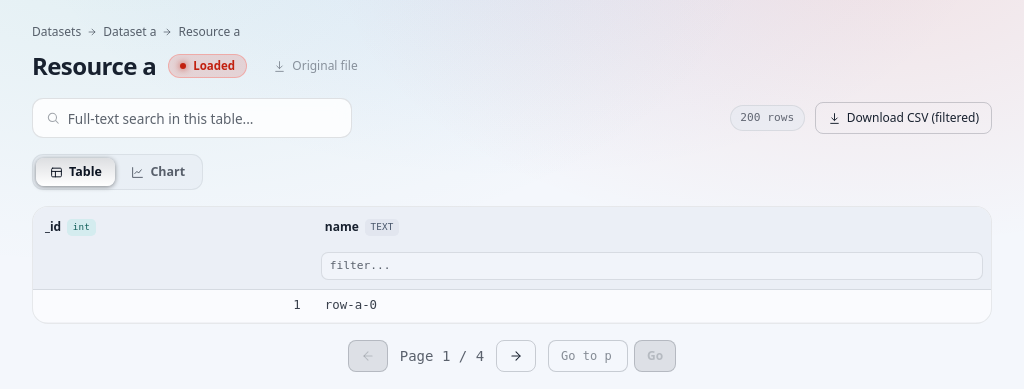
Test case: ResourcePage row cache › an unseen page keeps the page on screen visible, not the last fetched one, while it loads
expect the text "row-a-0" is shown: met, box [313, 290, 991, 323]
Step 1. Click the button named "Next page" → (516, 356), box [496, 340, 536, 372]
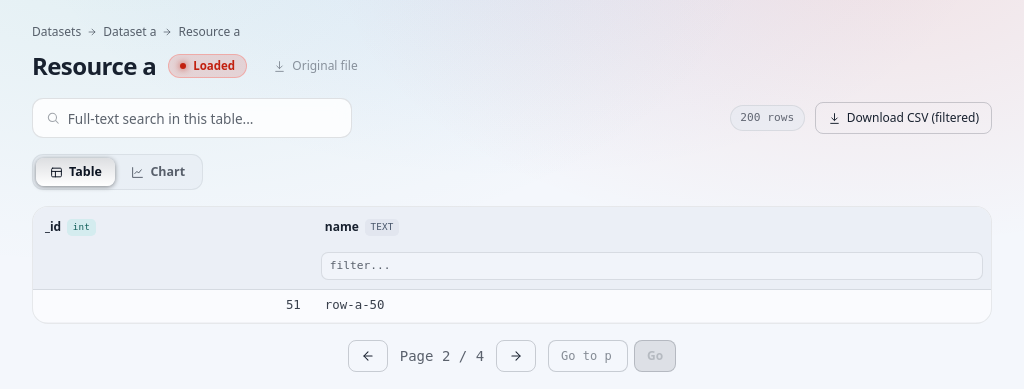
expect the text "row-a-50" is shown: met, box [313, 290, 991, 323]
Step 2. Click the button named "Previous page" → (368, 356), box [348, 340, 388, 372]
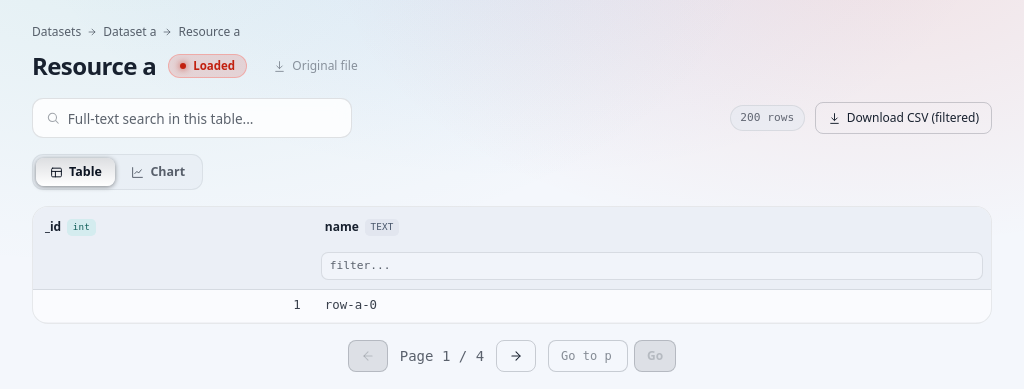
expect the text "row-a-0" is shown: met, box [313, 290, 991, 323]
Step 3. Type "4" into the number field labelled "Go to page" → (588, 356), box [548, 340, 628, 372]
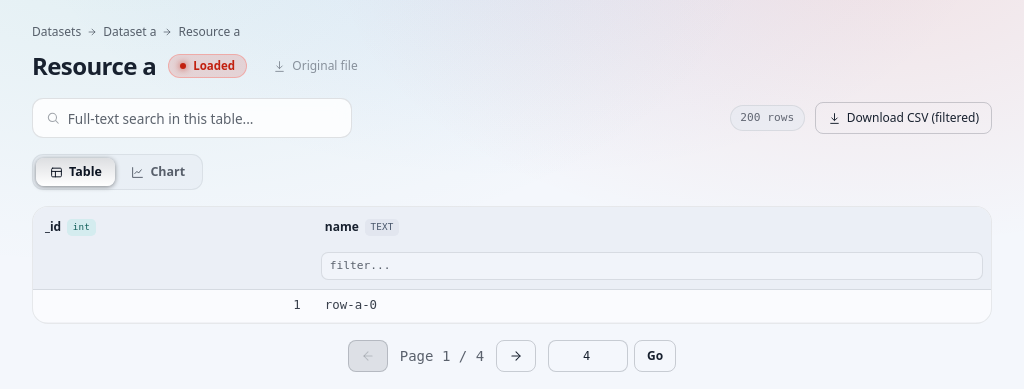
Step 4. Click the button "Go" → (655, 356), box [634, 340, 676, 372]
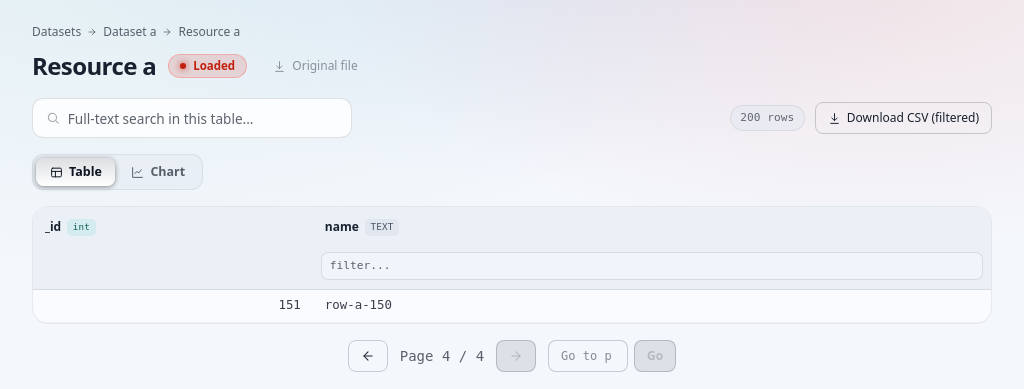
expect the text "row-a-50" is not shown: met
expect the text "Page 4 / 4" is shown: met, box [400, 346, 484, 366]
expect the text "row-a-150" is shown: met, box [313, 290, 991, 323]
